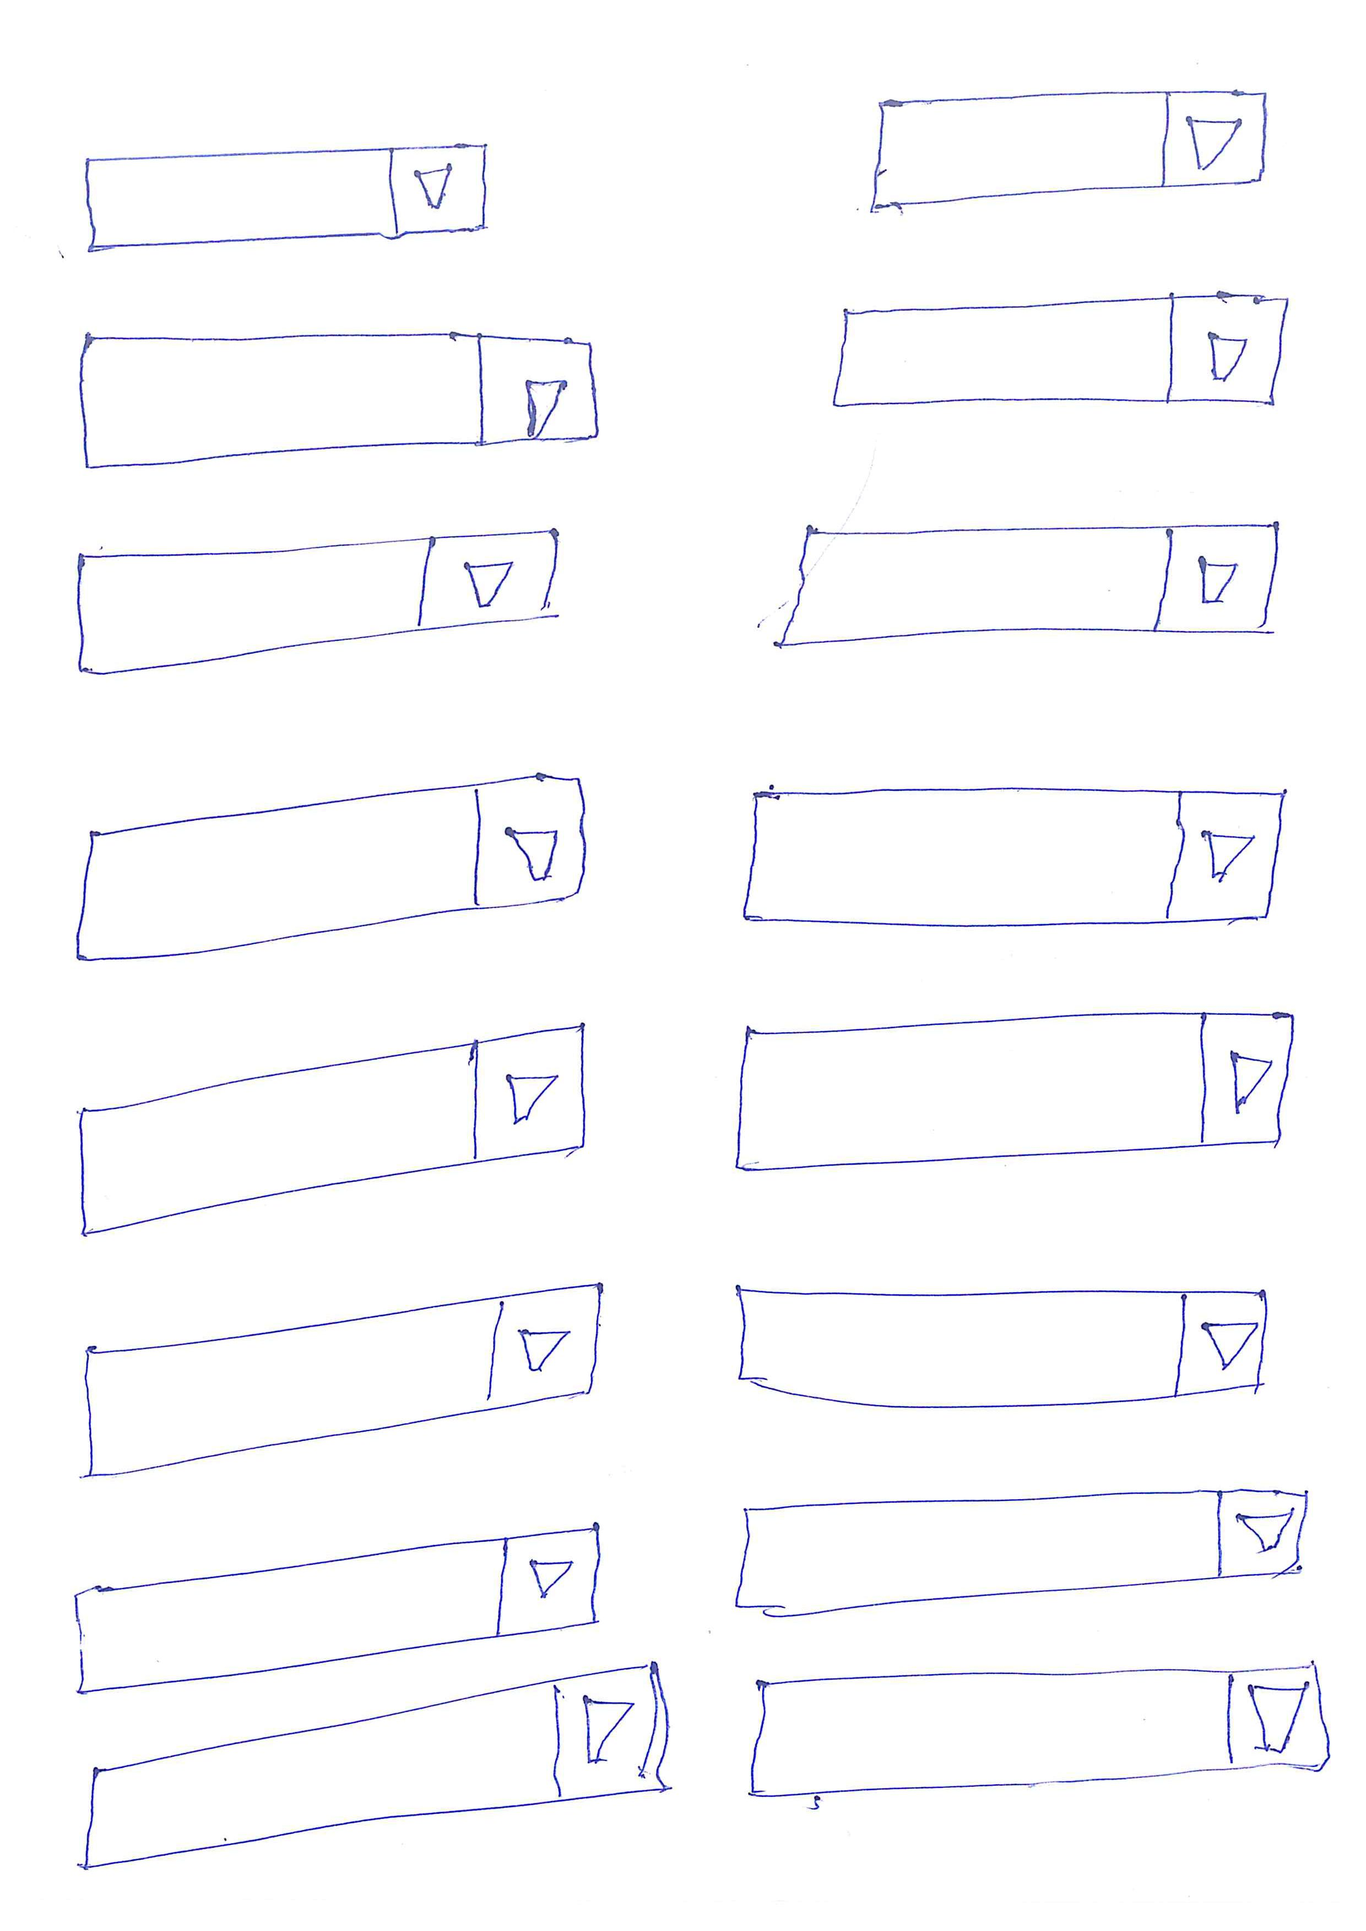Select: (75, 1022, 591, 1241), (77, 1279, 606, 1482), (78, 1694, 667, 1876), (74, 772, 588, 964), (733, 1008, 1297, 1177), (739, 782, 1288, 931), (750, 1666, 1333, 1801), (730, 1486, 1311, 1619), (77, 330, 605, 472), (75, 526, 560, 677), (736, 1280, 1271, 1414), (772, 519, 1282, 652), (829, 291, 1289, 411), (866, 89, 1267, 211), (81, 139, 494, 254)
